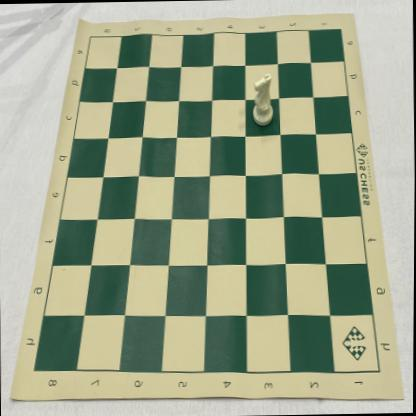white-knight: (251, 72, 274, 126)
